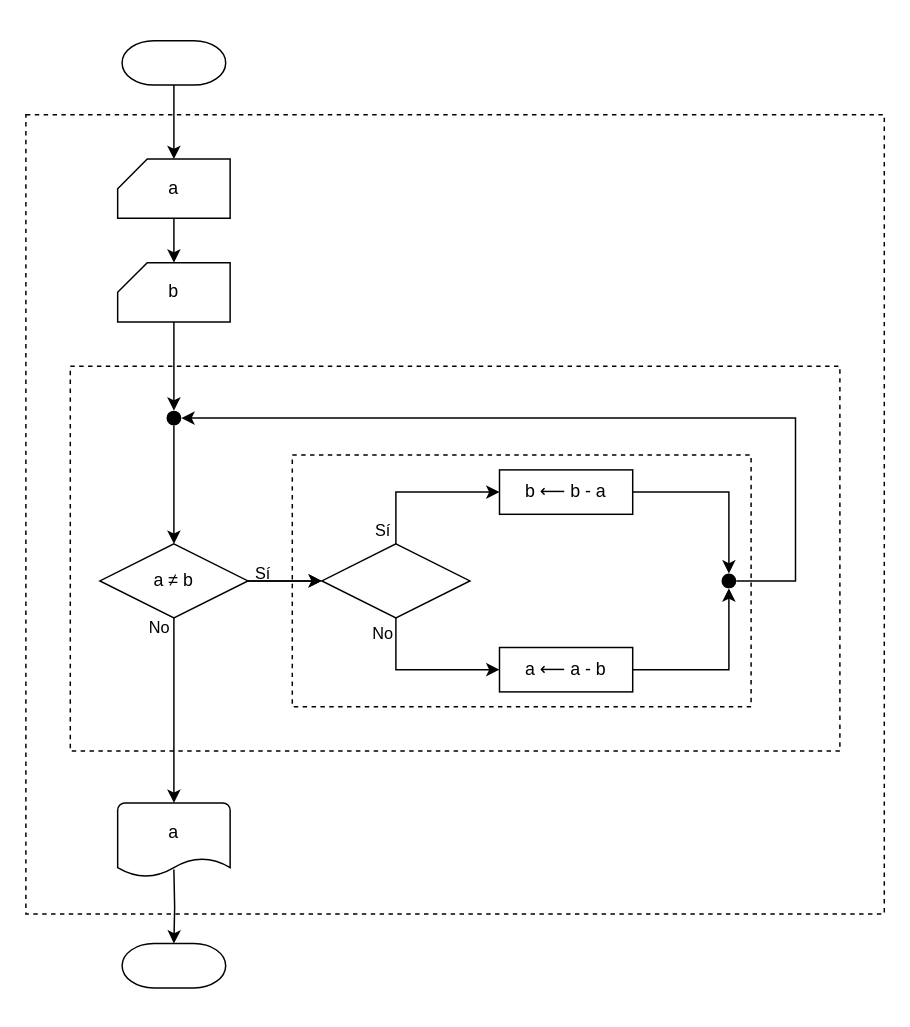
Some shapes in this 910 by 1027 pixel diagram are drawn without their labels. The centre of each missing label's shape, as x and y in pixels:
"a < b" goes at [395,580].
"Fin" goes at [173,965].
"Inicio" goes at [173,62].
